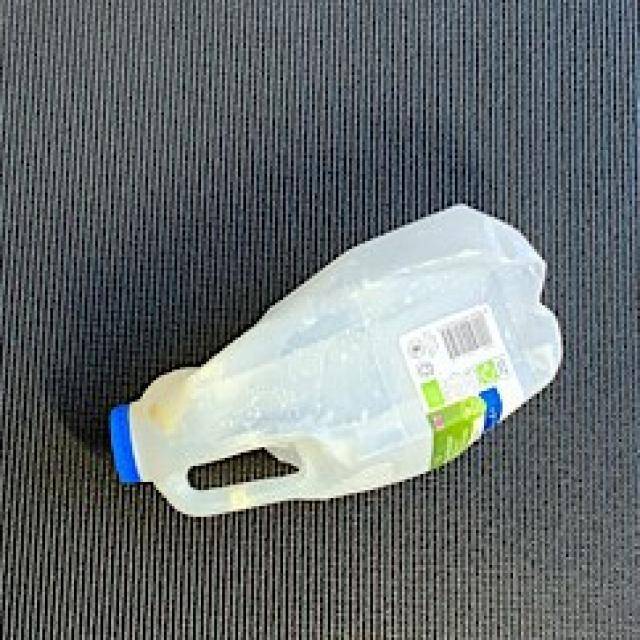HDPE Plastic: (106, 202, 566, 518)
